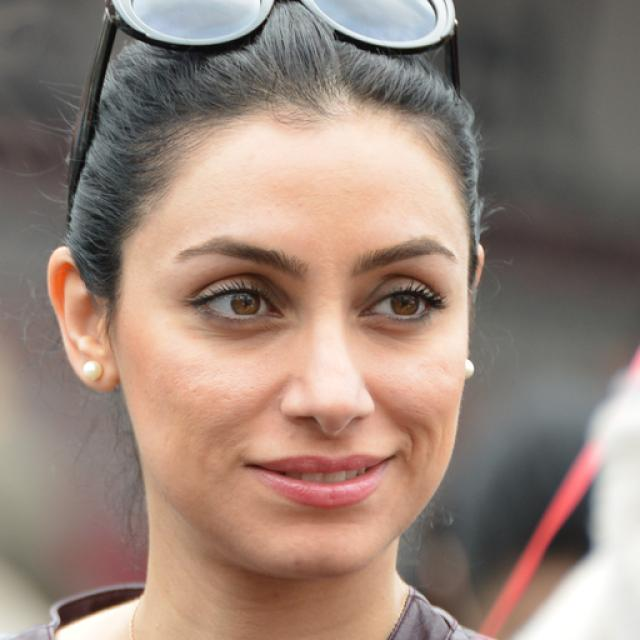Dark Circle: (203, 311, 287, 349), (358, 316, 440, 347)
